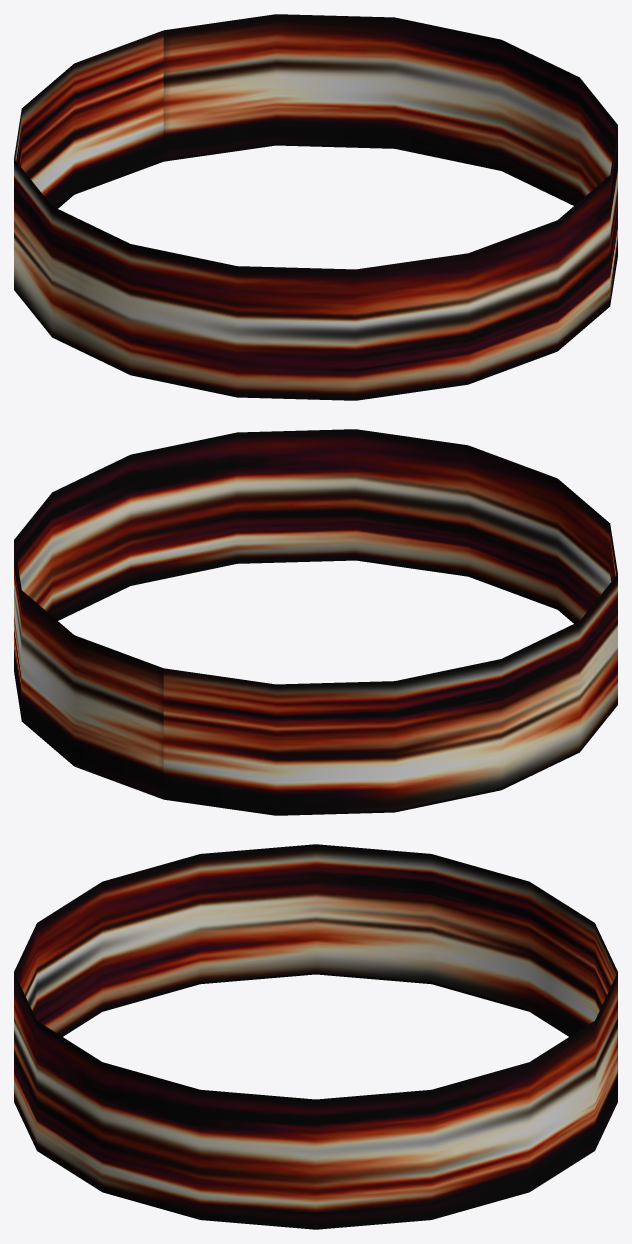
The model's file is fx_fbx_npc_2010_2.FBX.
The picture shows the model from 3 angles, top to bottom: view 1: azimuth 30°, elevation 25°; view 2: azimuth 150°, elevation 25°; view 3: azimuth 270°, elevation 25°; orthographic projection.
Parts seen in each view (by area): view 1: Plane001; view 2: Plane001; view 3: Plane001.
Boxes of the visible parts, <box> form: Plane001: <box>14,14,617,400</box>; Plane001: <box>14,429,617,815</box>; Plane001: <box>14,844,617,1229</box>.
Size of the model in its own units: 80.51 by 80.51 by 19.16.
1 material, 1 textured.
